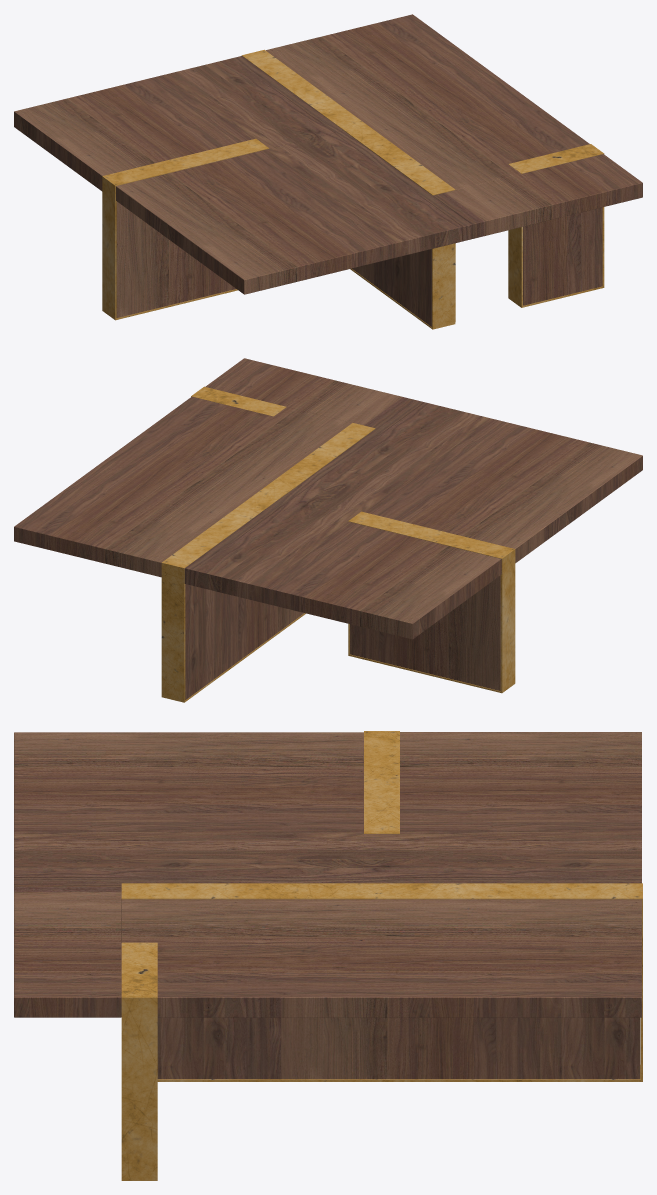
Rendered from AndreaWox_Table_Resized.glb.
The picture shows the model from 3 angles, top to bottom: view 1: azimuth 30°, elevation 25°; view 2: azimuth 150°, elevation 25°; view 3: azimuth 270°, elevation 25°; orthographic projection. The views are drawn at different scales.
Parts seen in each view (by area): view 1: Mesh02; view 2: Mesh02; view 3: Mesh02.
Part boxes in pixels (x1,y1,x2,y2): Mesh02: [14, 14, 642, 329]; Mesh02: [14, 358, 642, 702]; Mesh02: [14, 731, 642, 1180].
Bounding box in the file's own units: 161 × 51.82 × 161.
Materials: 2 (2 with a texture image).
